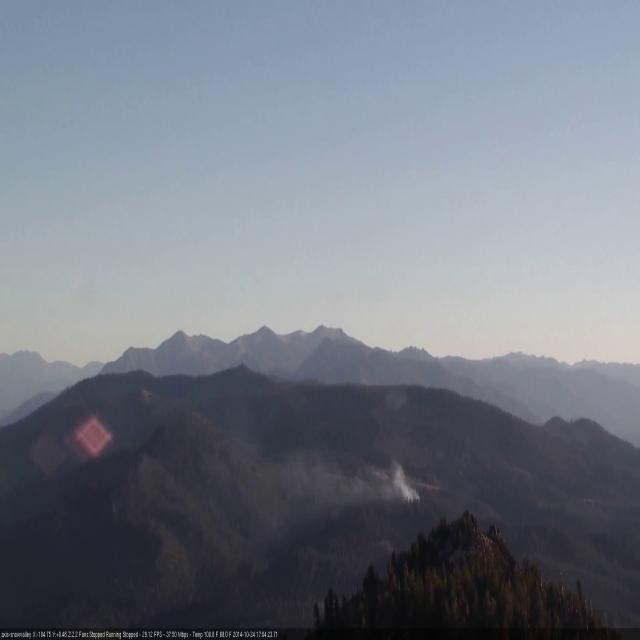smoke: (204, 374, 437, 514)
